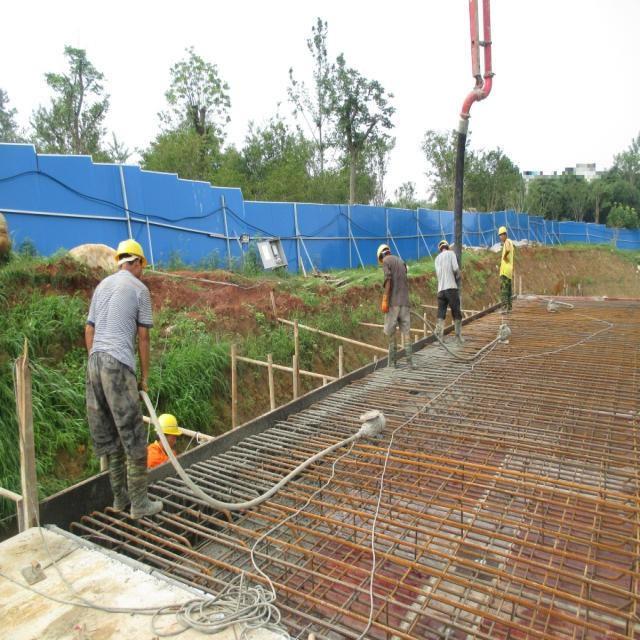truck: (453, 0, 495, 269)
